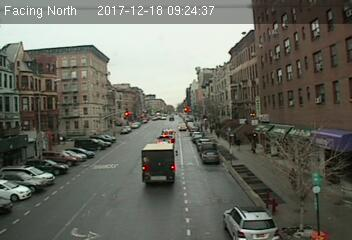car: (222, 204, 281, 240), (200, 150, 221, 164)
ups: (140, 142, 179, 185)
